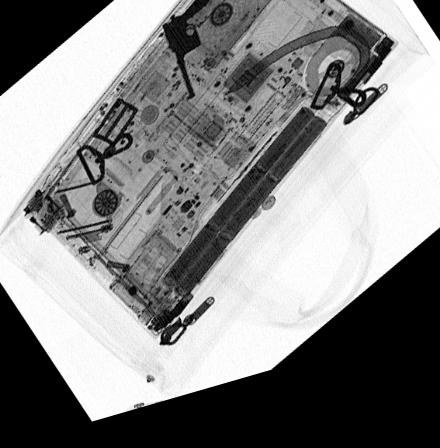Gun: (161, 2, 211, 110)
